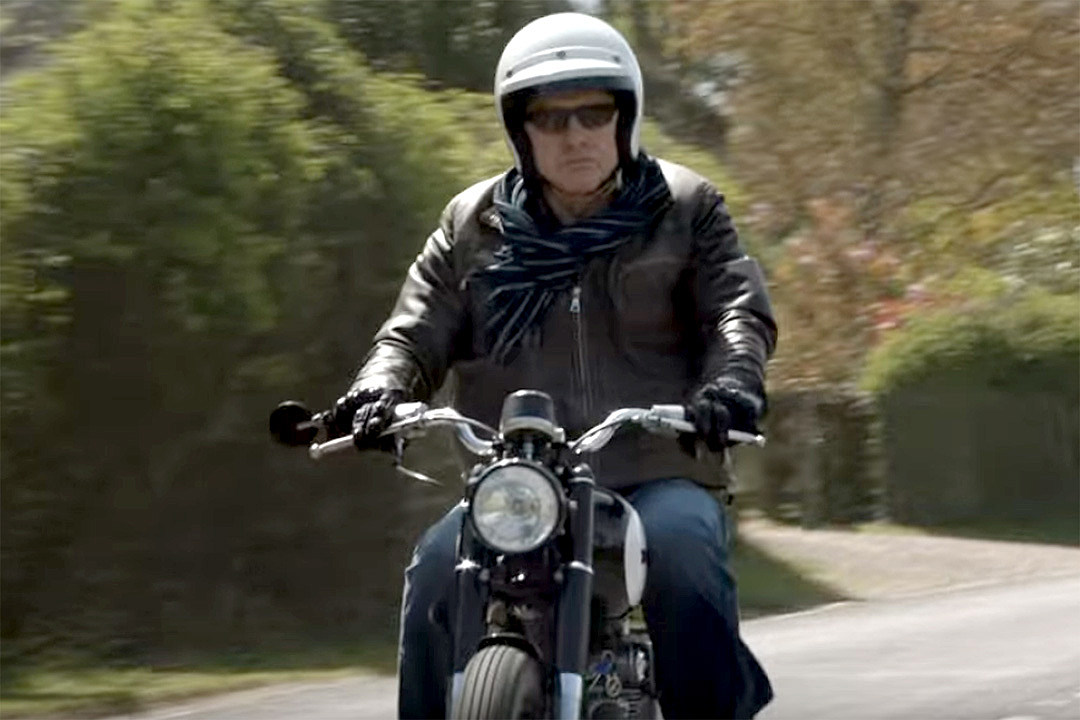helmet: (463, 1, 752, 464)
